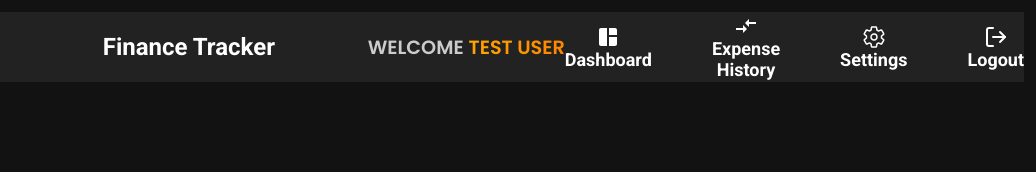
confirmed logout switches to guest mode and preserves local data
This screenshot has width=1036, height=172.
Click the button "Logout". click: click(996, 47)
box: [968,24,1024,70]
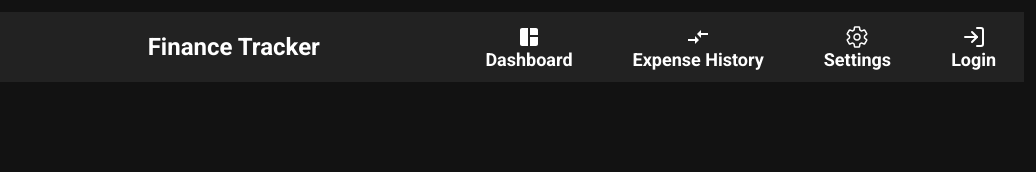
Now the text "Login" is shown, box [951,48,996,70]
Now the text "Test User" is gone
